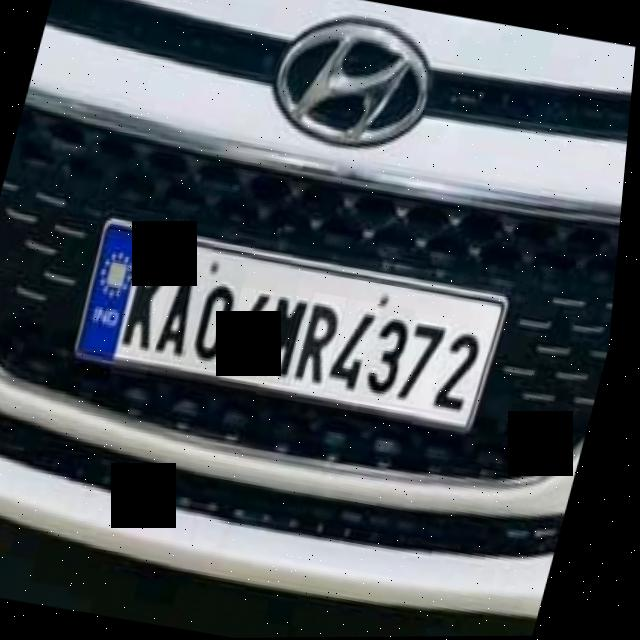0: (194, 274, 250, 370)
3: (368, 305, 422, 401)
4: (331, 300, 388, 398), (227, 287, 281, 376)
7: (400, 313, 459, 410)
A: (160, 262, 213, 362)
K: (116, 253, 182, 379)
M: (260, 283, 319, 384)
R: (296, 292, 352, 393)
